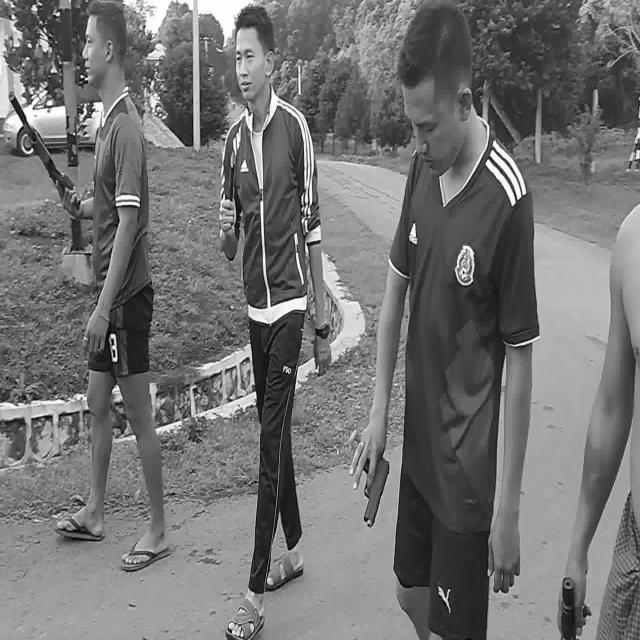gun: (8, 90, 81, 208), (364, 457, 388, 526)
